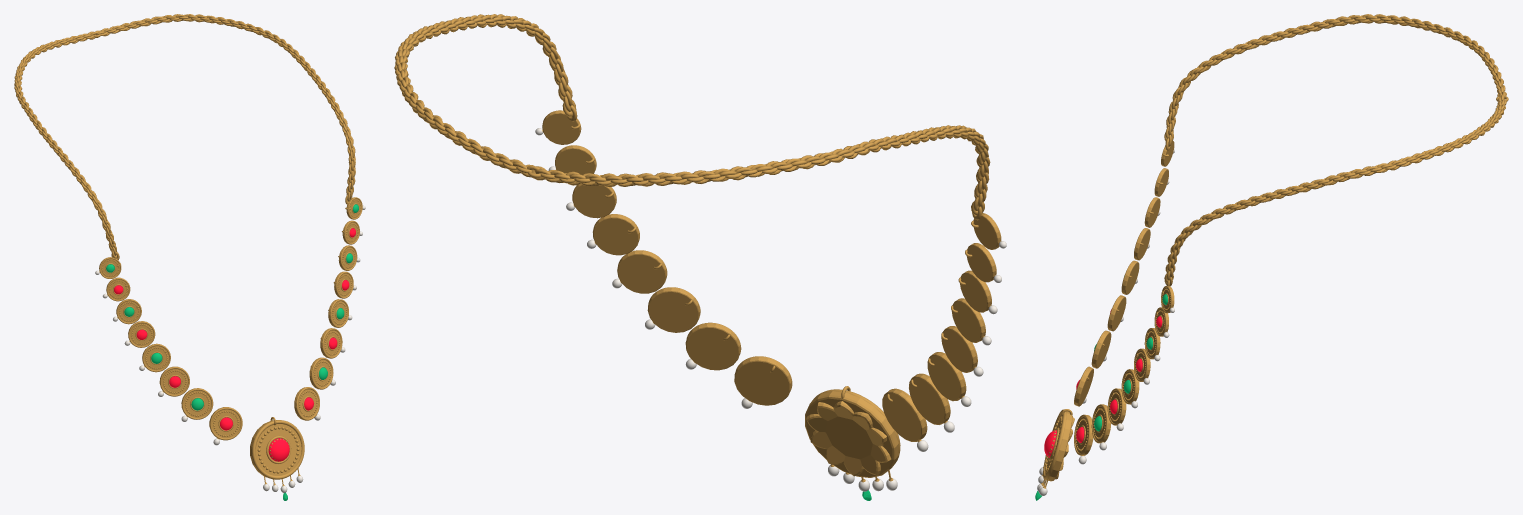
Rendered from necklace-temple-gold.glb.
3 renders of one model, left to right at view 1: azimuth 30°, elevation 25°; view 2: azimuth 150°, elevation 25°; view 3: azimuth 270°, elevation 25°, orthographic. The views are drawn at different scales.
Visible parts, largest first — view 1: necklace-temple-gold_antiqueGold, necklace-temple-gold_ruby, necklace-temple-gold_emerald, necklace-temple-gold_pearl; view 2: necklace-temple-gold_antiqueGold, necklace-temple-gold_pearl; view 3: necklace-temple-gold_antiqueGold, necklace-temple-gold_pearl, necklace-temple-gold_ruby.
Boxes of the visible parts, x1,y1,x2,y2 form: necklace-temple-gold_antiqueGold: (14,14,362,486); necklace-temple-gold_ruby: (114,228,355,461); necklace-temple-gold_emerald: (106,204,358,500); necklace-temple-gold_pearl: (95,205,365,492); necklace-temple-gold_antiqueGold: (394,14,1001,482); necklace-temple-gold_pearl: (535,128,1006,491); necklace-temple-gold_antiqueGold: (1041,14,1508,488); necklace-temple-gold_pearl: (1037,149,1174,495); necklace-temple-gold_ruby: (1044,309,1162,457).
Size of the model in its own units: 12.3 by 14.66 by 15.17.
